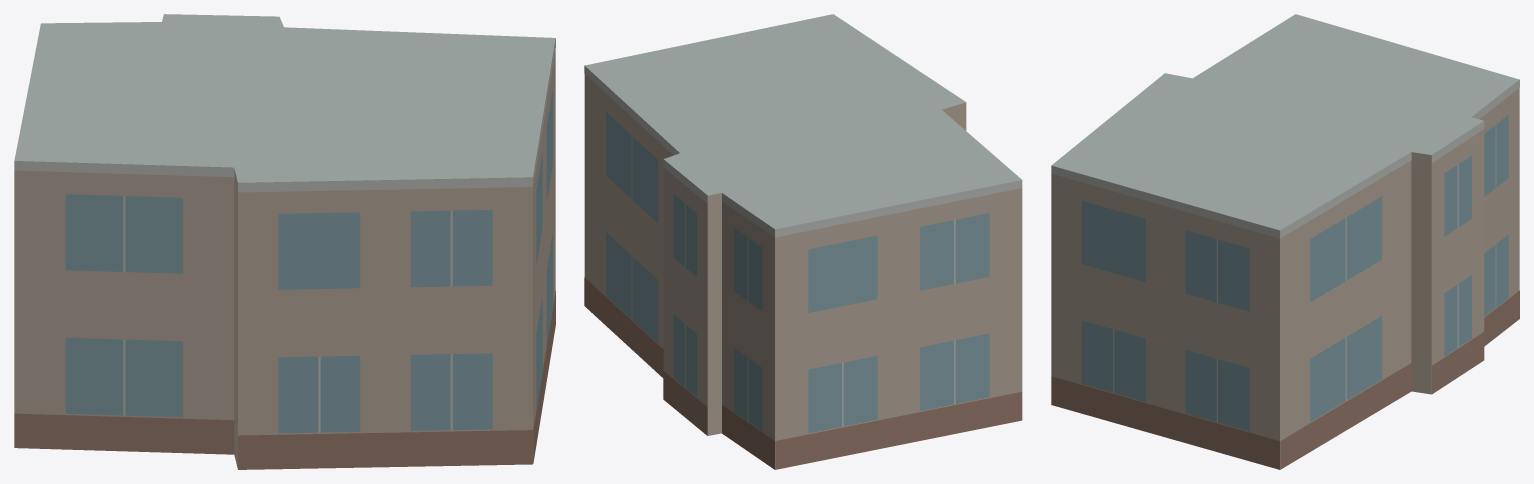
Rendered from survey-upis-32959916.glb.
The picture shows the model from 3 angles, left to right: view 1: azimuth 30°, elevation 25°; view 2: azimuth 150°, elevation 25°; view 3: azimuth 270°, elevation 25°; orthographic projection. The views are drawn at different scales.
Parts seen in each view (by area): view 1: survey-upis-32959916.tmp; view 2: survey-upis-32959916.tmp; view 3: survey-upis-32959916.tmp.
Boxes of the visible parts, bbox=[...] form: survey-upis-32959916.tmp: bbox=[14, 14, 555, 469]; survey-upis-32959916.tmp: bbox=[584, 14, 1022, 469]; survey-upis-32959916.tmp: bbox=[1051, 14, 1519, 469].
Bounding box in the file's own units: 13.97 × 7.2 × 12.78.
